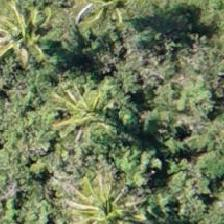coconut_tree: (41, 80, 131, 170), (47, 175, 137, 223), (0, 0, 58, 70)
